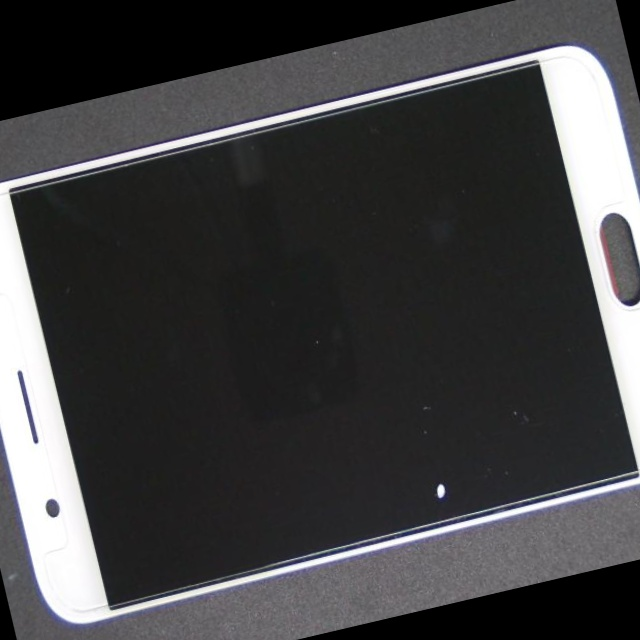stain: (203, 237, 640, 640)
